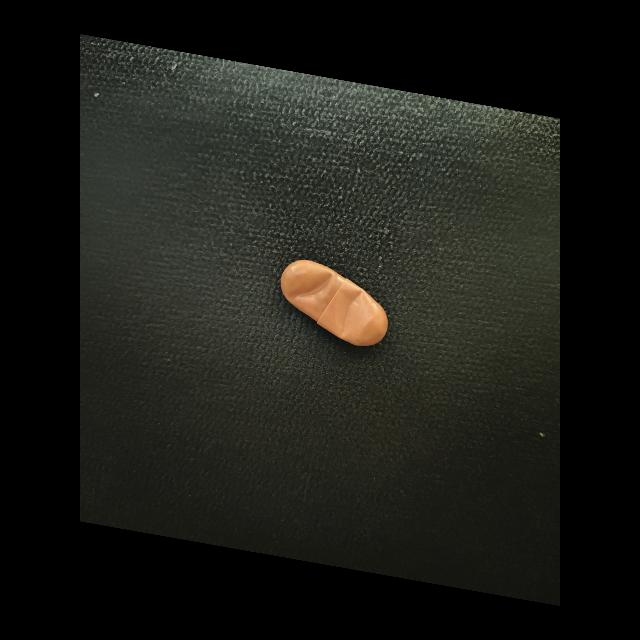Defective Capsule: (333, 288, 378, 338), (286, 270, 334, 300)
